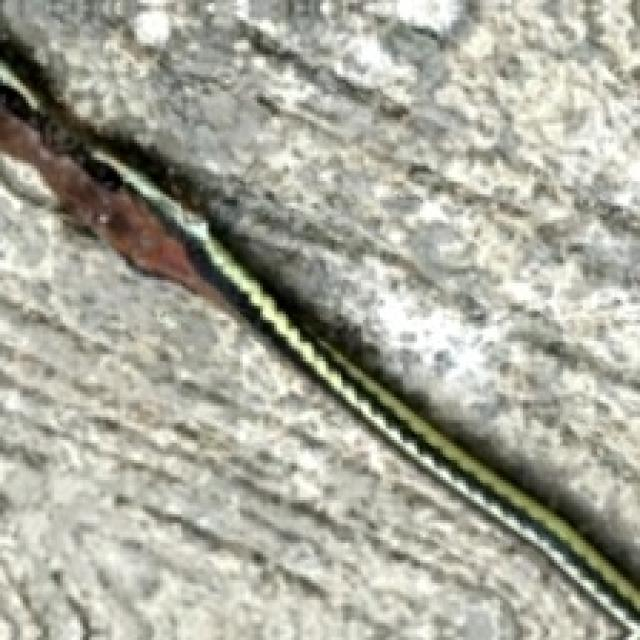philippine bronzeback treesnake: (3, 0, 637, 569), (0, 157, 637, 637)
